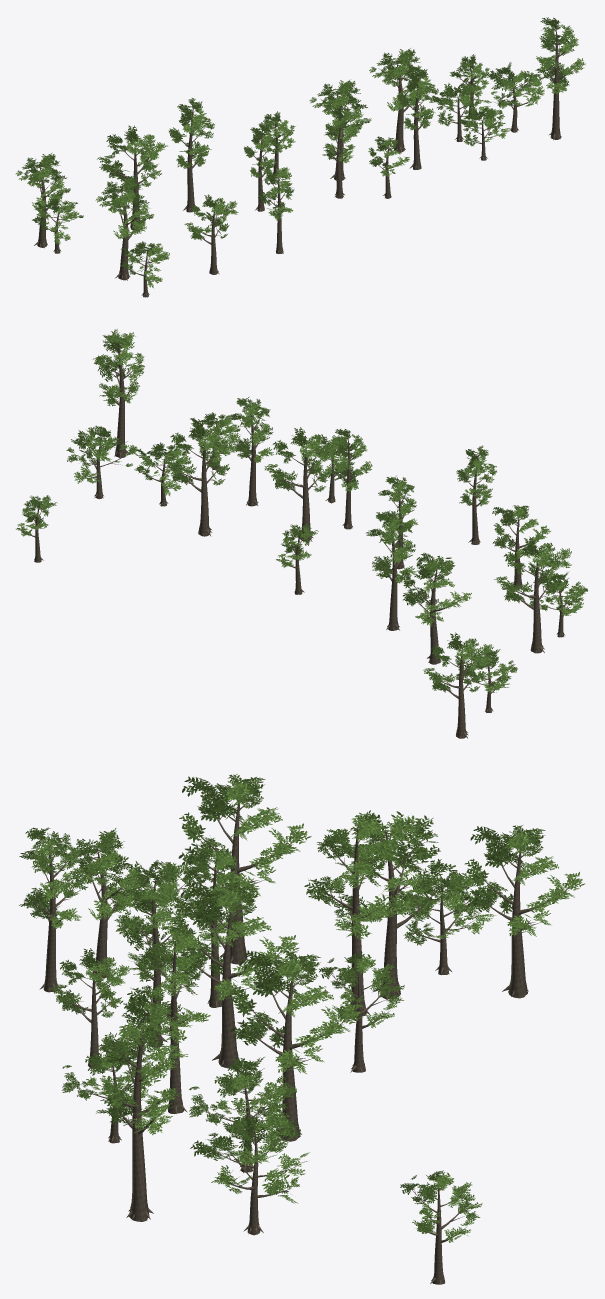
The model's file is Canopy_10_15.glb.
The picture shows the model from 3 angles, top to bottom: view 1: azimuth 30°, elevation 25°; view 2: azimuth 150°, elevation 25°; view 3: azimuth 270°, elevation 25°; orthographic projection. The views are drawn at different scales.
Visible parts, largest first — view 1: Canopy_10_15; view 2: Canopy_10_15; view 3: Canopy_10_15.
Part boxes in pixels (bbox=[...]): Canopy_10_15: bbox=[15, 17, 585, 297]; Canopy_10_15: bbox=[16, 329, 587, 738]; Canopy_10_15: bbox=[19, 774, 585, 1284].
Bounding box in the file's own units: 98.32 × 40.12 × 56.25.
Materials: 2 (2 with a texture image).
